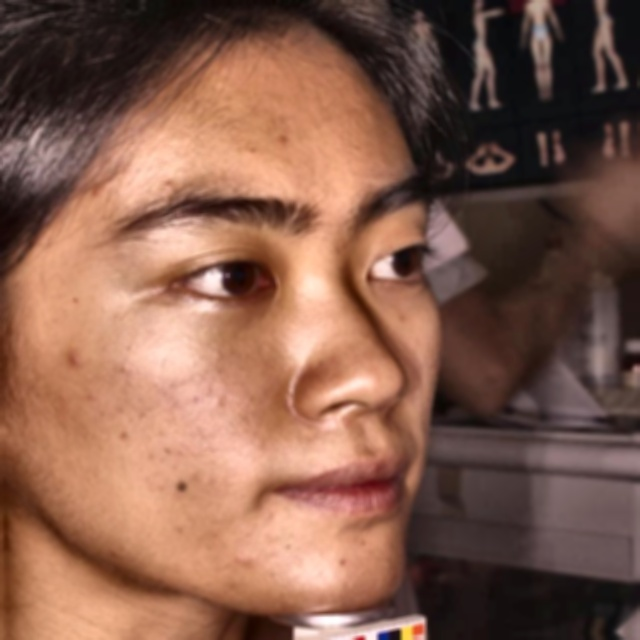comedone: (65, 342, 95, 375)
